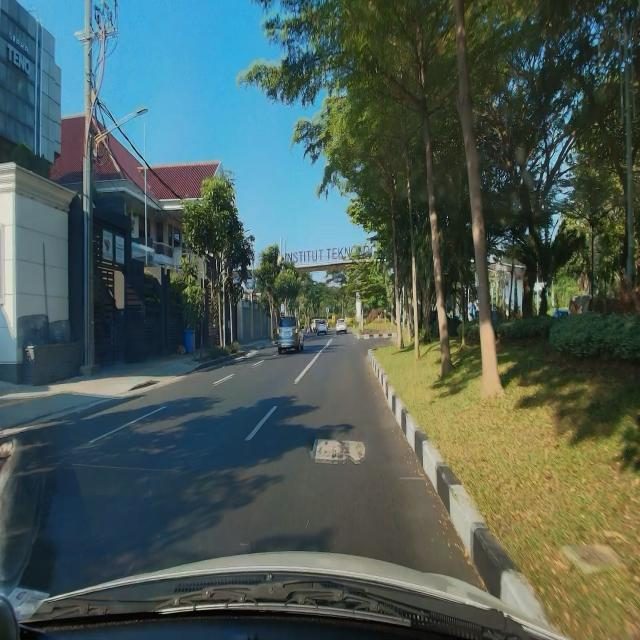car: (276, 314, 305, 355)
